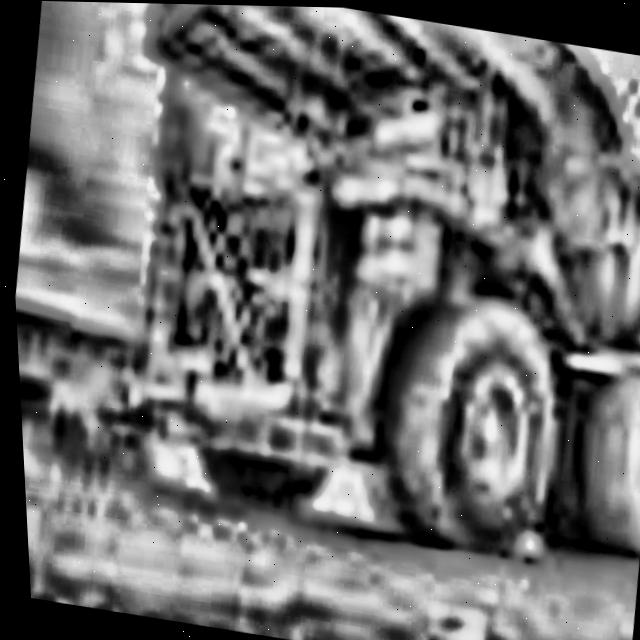dump_truck: (72, 1, 640, 602)
